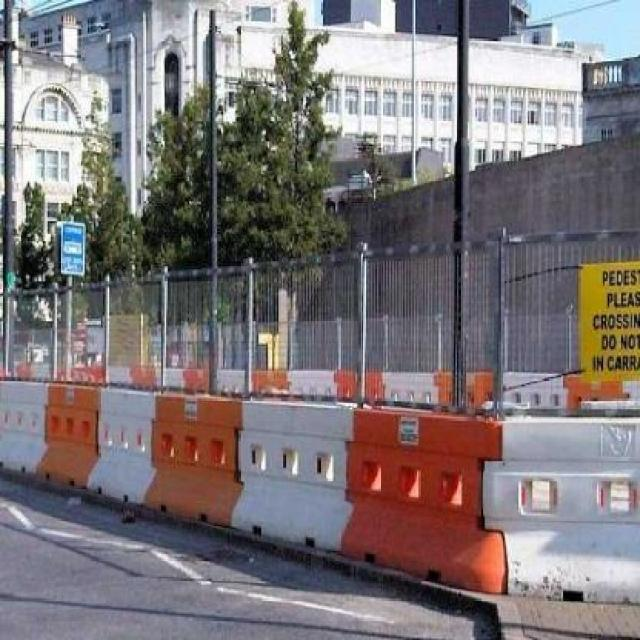fallen_object: (316, 387, 540, 610), (456, 402, 640, 606), (85, 382, 248, 526), (226, 385, 357, 549), (0, 373, 104, 488)
